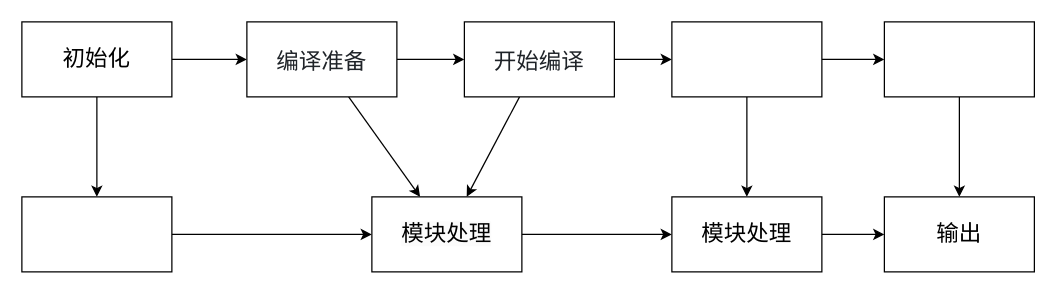
Image size: 1056x294. Some labels were removed from this diagram. The centre of each missing label's shape, as x and y in pixels:
"后处理" belongs at (746,59).
"生成产物" belongs at (958,59).
"输入" belongs at (96,234).
